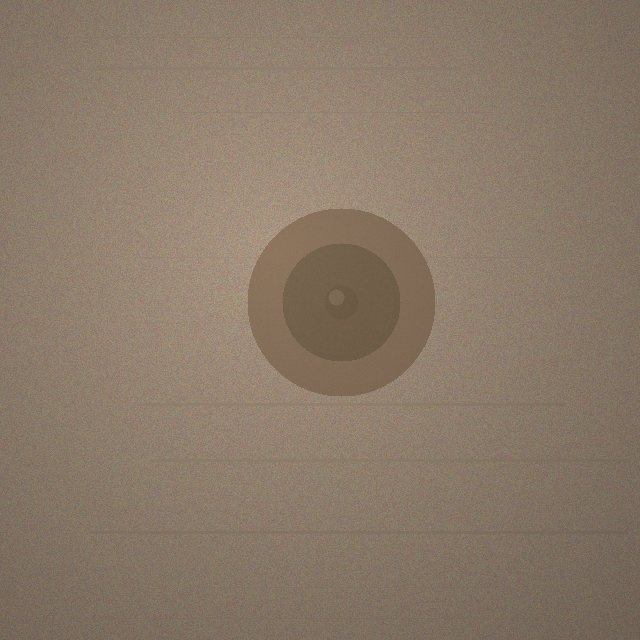good: (247, 208, 435, 396)
